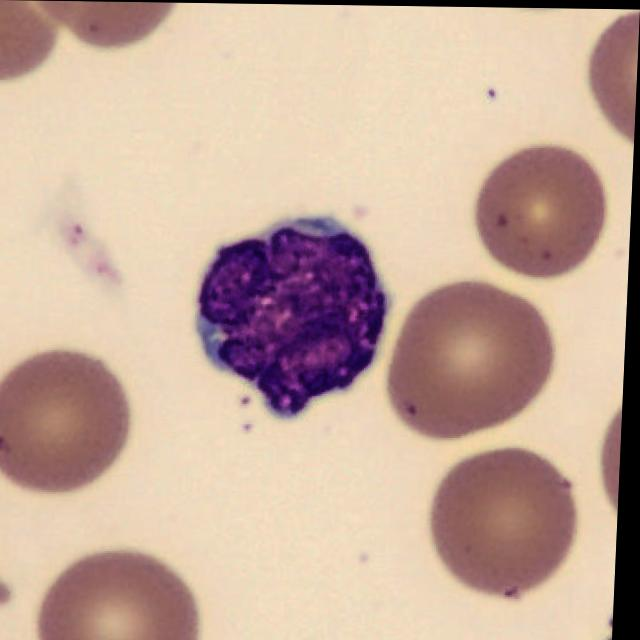Linfocito: (199, 213, 392, 418)
